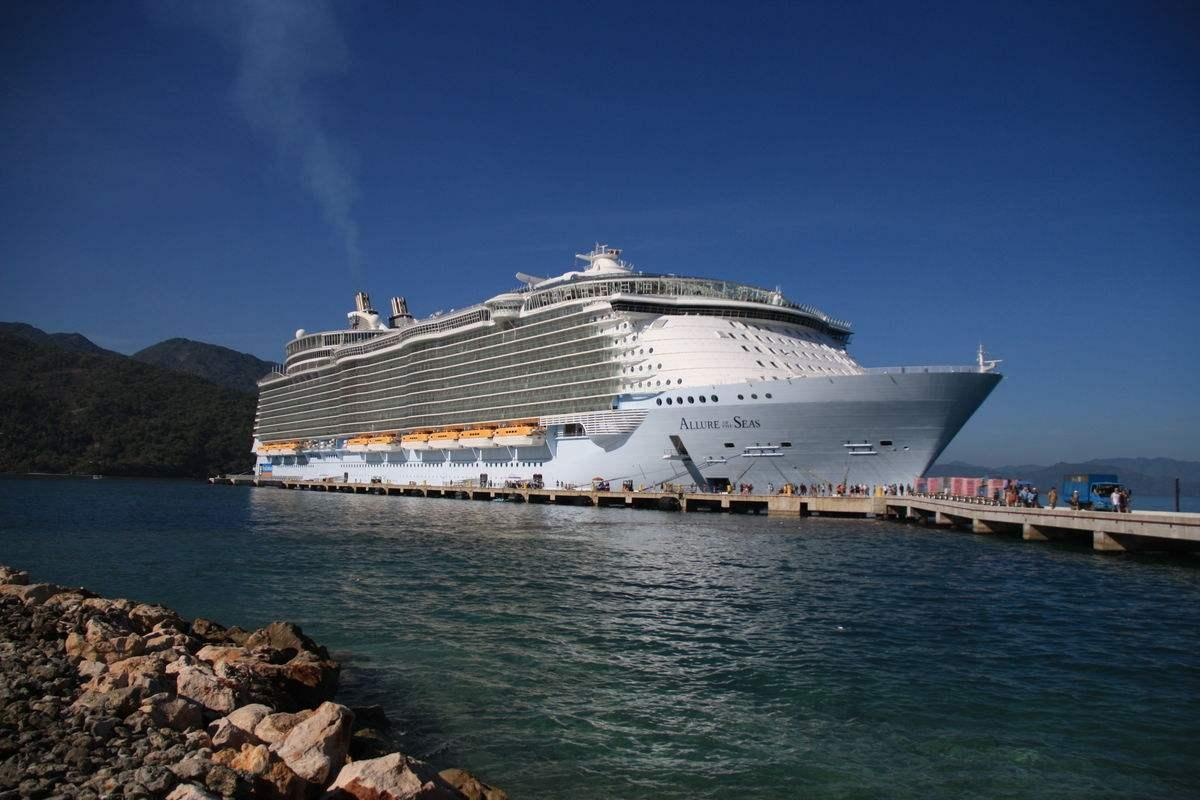youlun: (237, 245, 1010, 497)
